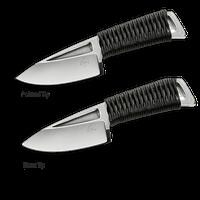knife: (17, 75, 184, 162), (13, 12, 179, 96)
